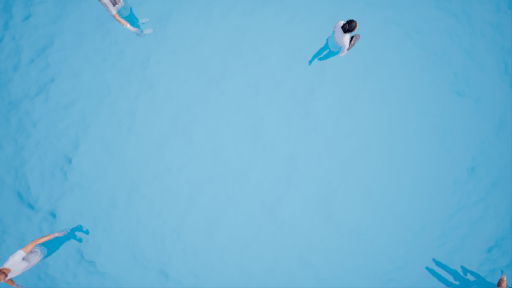person: (1, 226, 92, 281), (310, 9, 363, 75), (99, 1, 150, 42)
